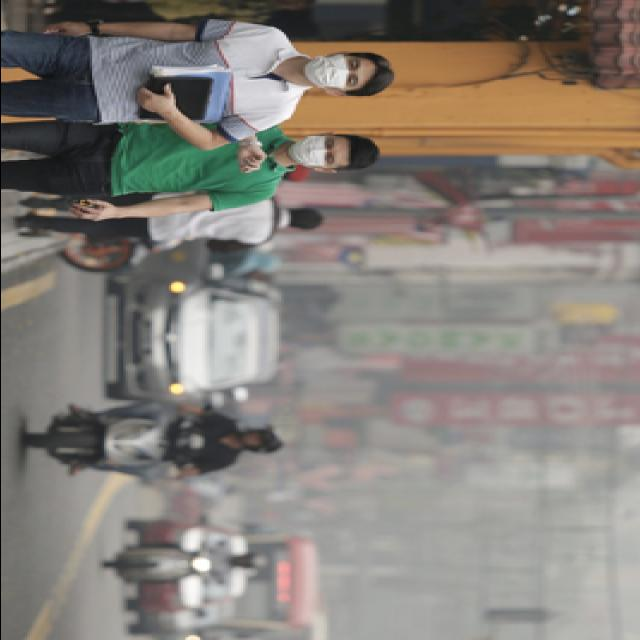mask: (303, 56, 367, 91), (285, 134, 343, 170)
